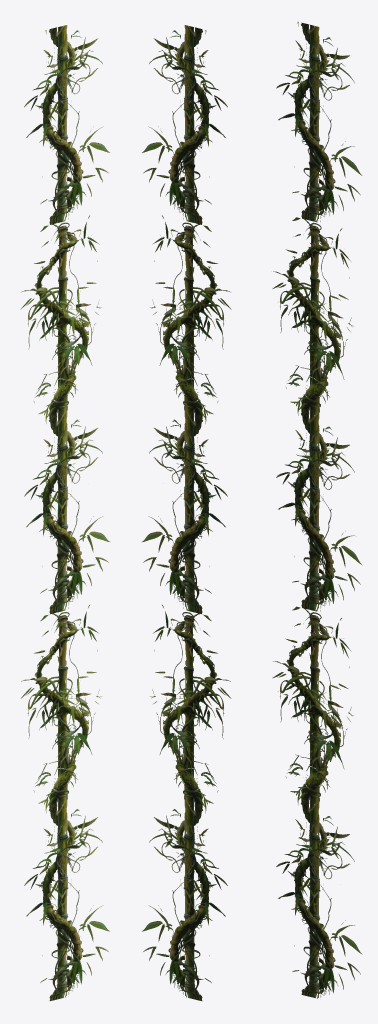
Rendered from bamboo.fbx.
3 views of the same model, side by side, from view 1: azimuth 30°, elevation 25°; view 2: azimuth 150°, elevation 25°; view 3: azimuth 330°, elevation 25° (orthographic).
Parts seen in each view (by area): view 1: bamboo; view 2: bamboo; view 3: bamboo.
Part boxes in pixels (x1,y1,x2,y2): bamboo: [20, 25, 109, 1000]; bamboo: [142, 25, 231, 1000]; bamboo: [272, 22, 362, 998].
Size of the model in its own units: 126 by 1204 by 1.43e-06.
